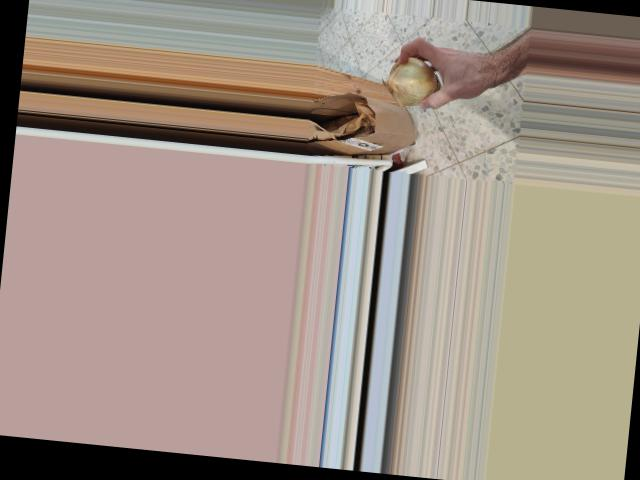onion: (381, 54, 446, 110)
